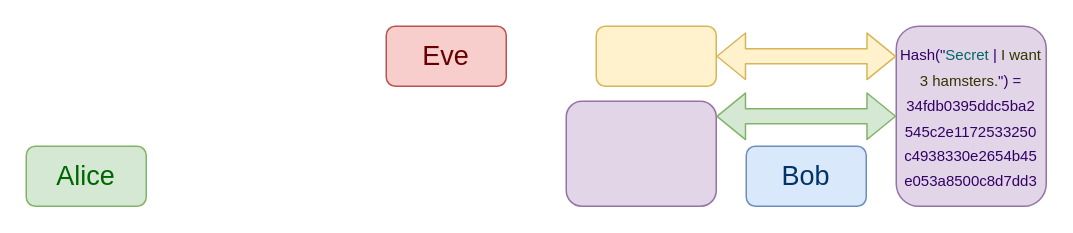
Some shapes in this 1073 by 233 pixel diagram are drawn without their labels. The box of each missing label's shape, as (x1, y1, x2, y2) in pixels:
34fdb0395ddc5ba2 545c2e1172533250 c4938330e2654b45 e053a8500c8d7dd3: (565, 100, 716, 206)
I want 3 hamsters.: (595, 25, 716, 86)
